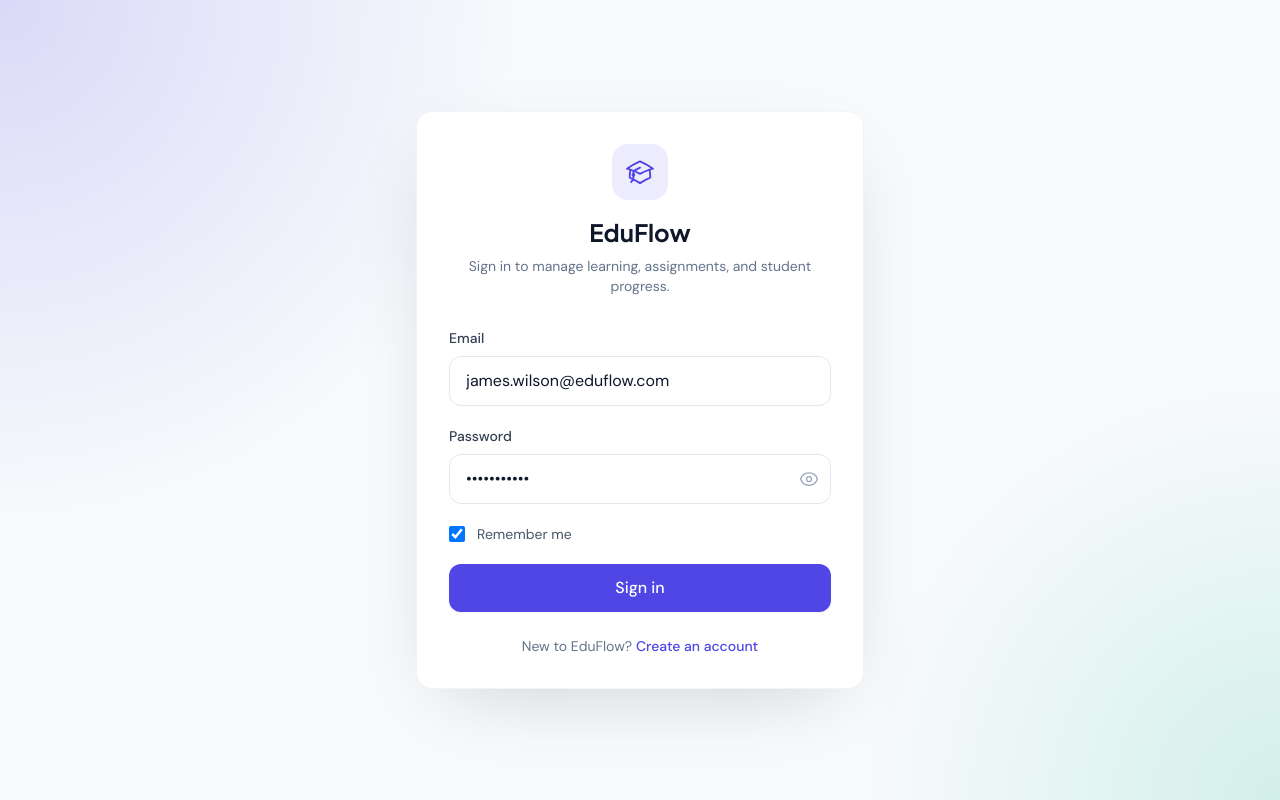
Test: Authentication UI › login form shows error on invalid credentials
Replace the text in the field labelled "Email" with "teacher@school.com" at (640, 381), box [449,356,831,406]
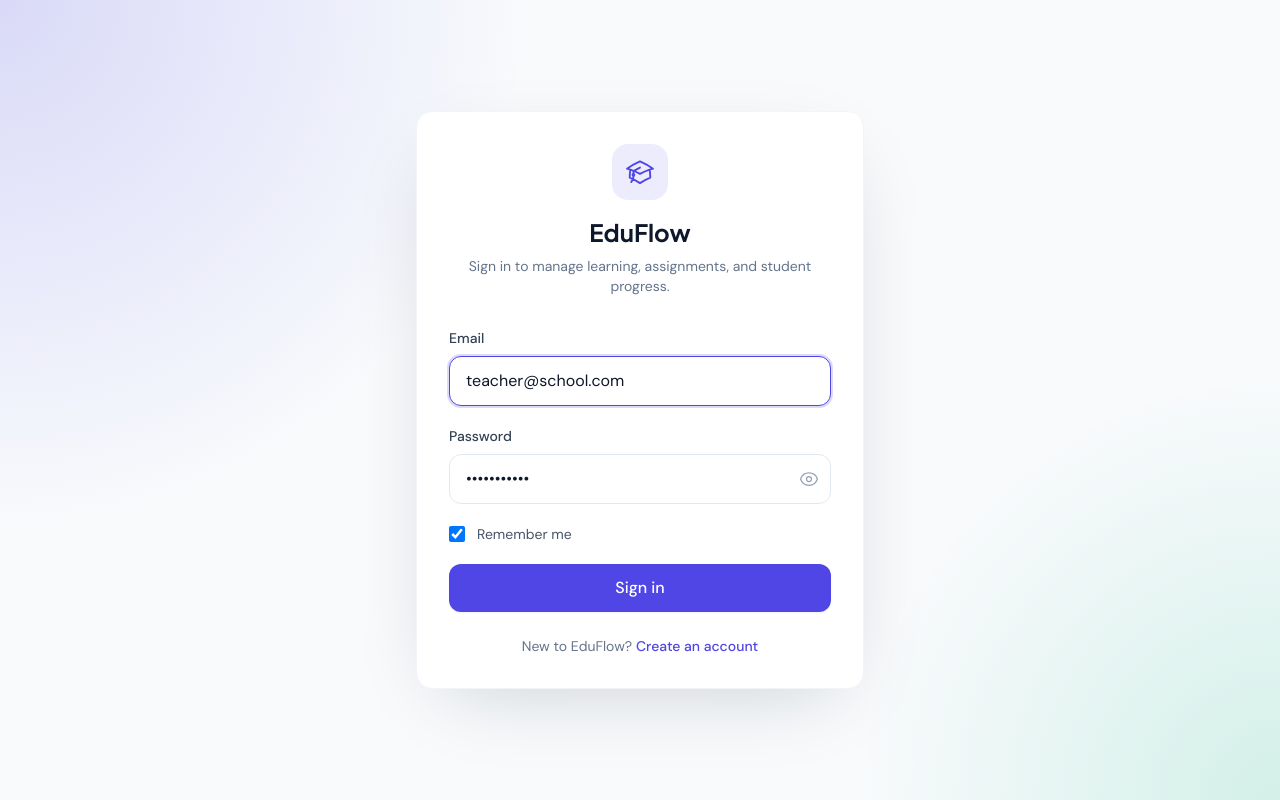
Type "wrong-password" into the password field labelled "Password" at (640, 479), box [449,454,831,504]
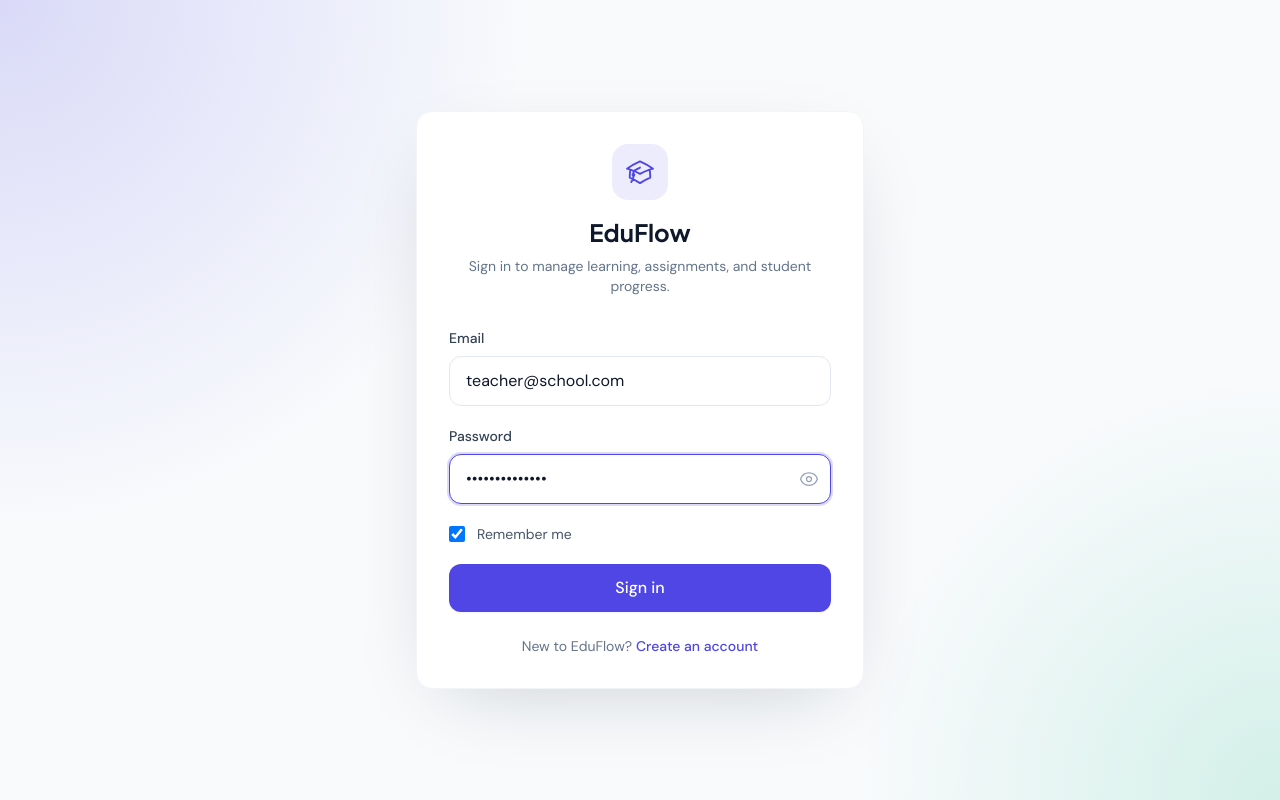
Click the button "Sign in" at (640, 588), box [449,564,831,612]
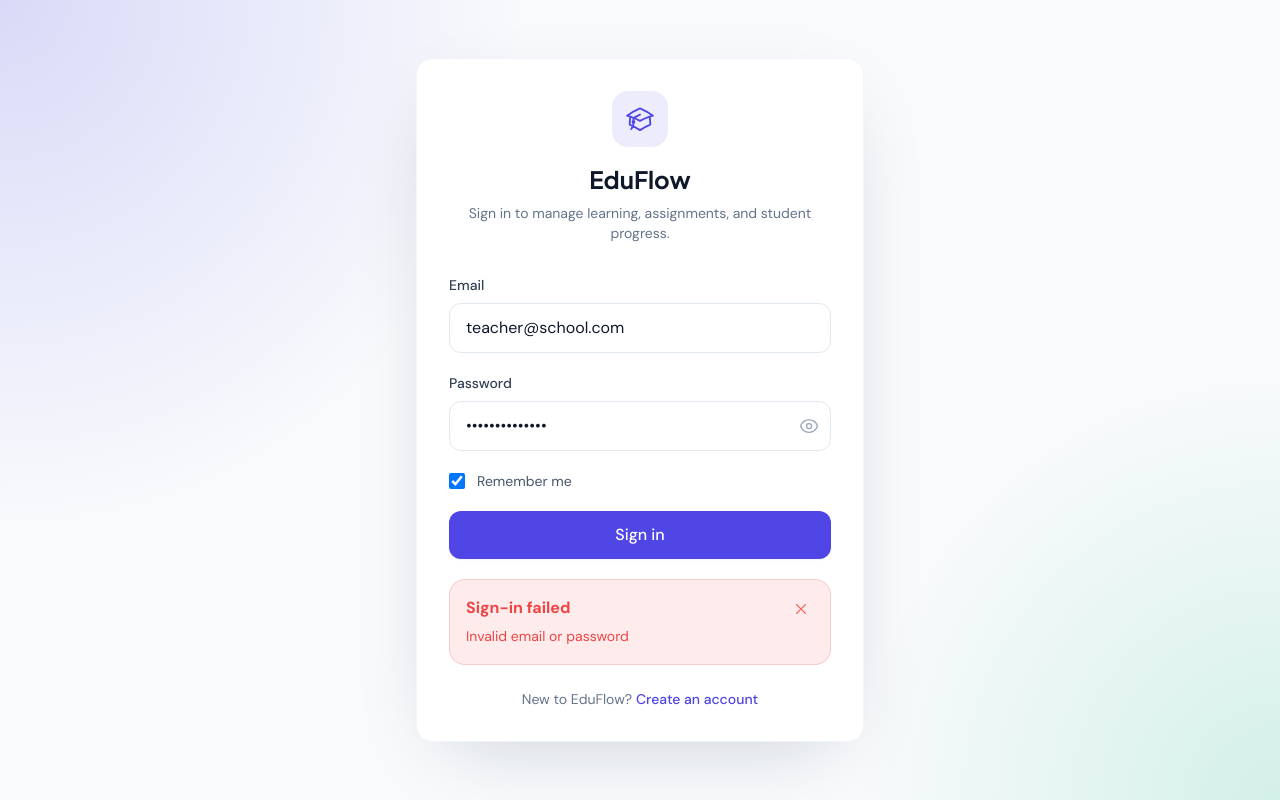
Check: the text "Invalid email or password" is shown, box [466,624,629,648]
